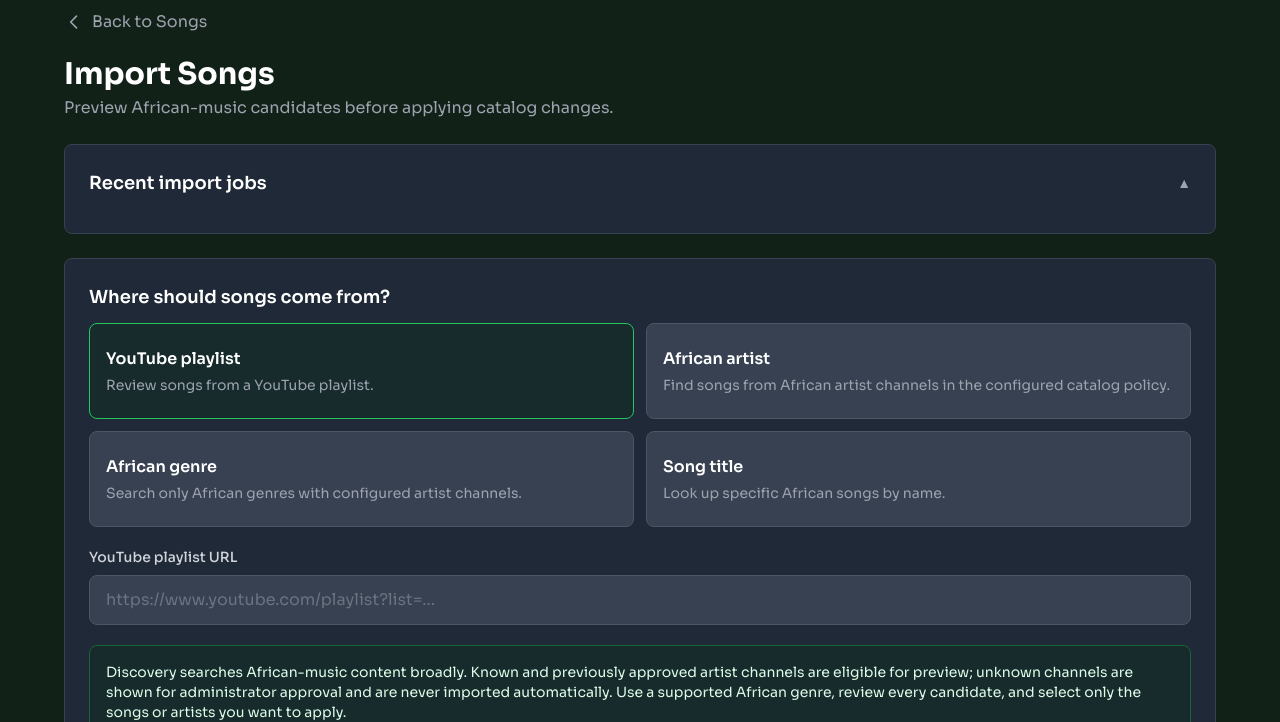
Scenario: ImportSongsPage › recovers a retained preview job from server history
Click the button named "Expand recent import jobs": (1184, 183) [1177,173,1191,193]
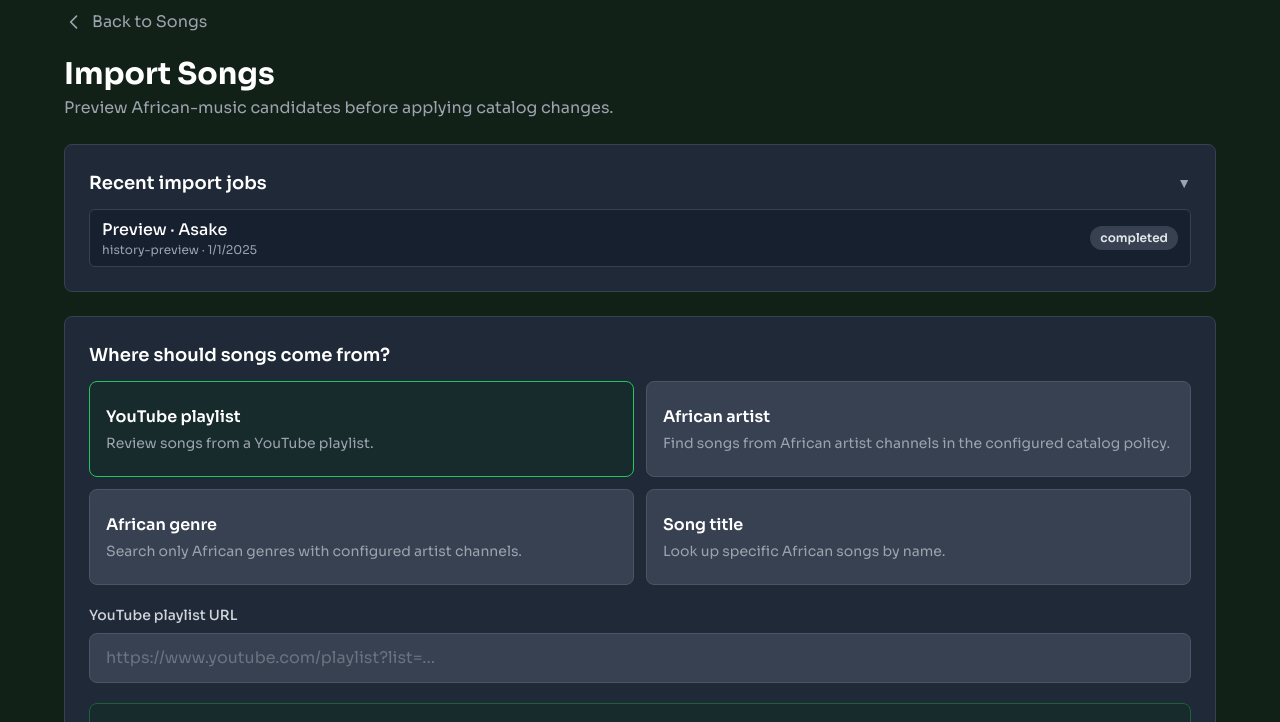
Click the button "Preview · Asake history-preview · 1/1/2025 completed": (134, 230) [89,209,1191,267]
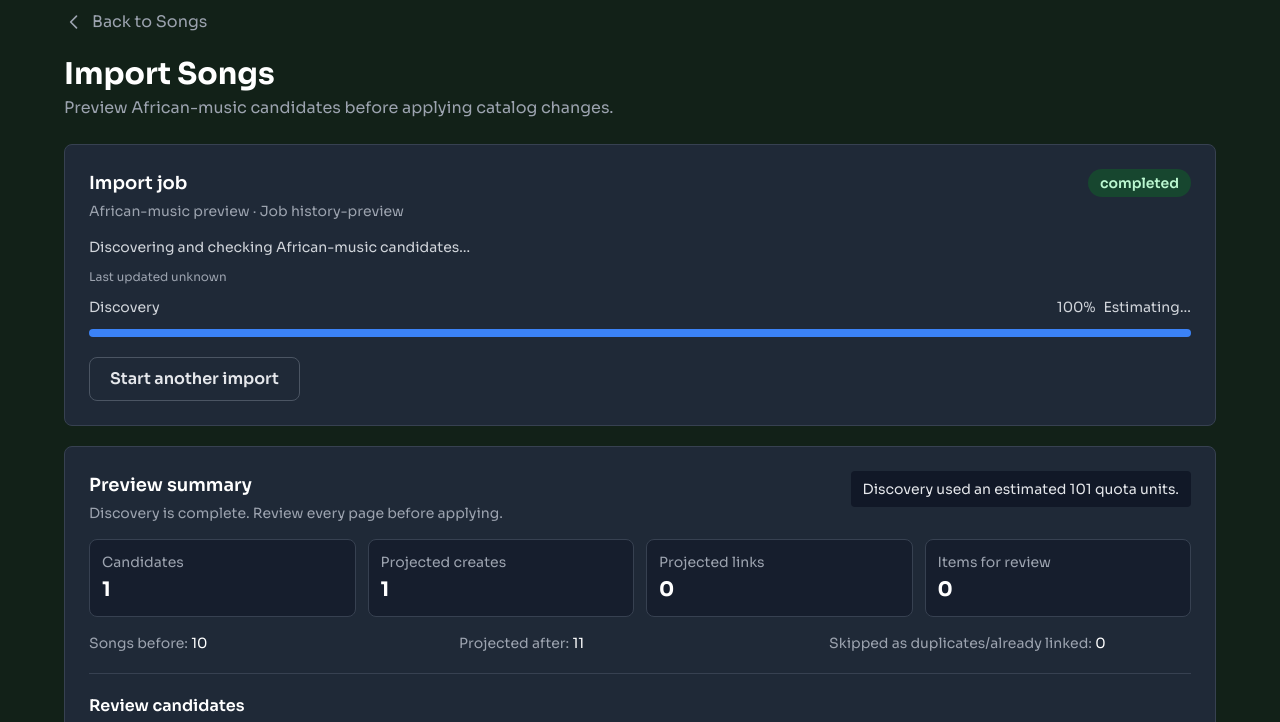
Now the text "African-music preview · Job history-preview" is shown, box [89,201,404,221]
